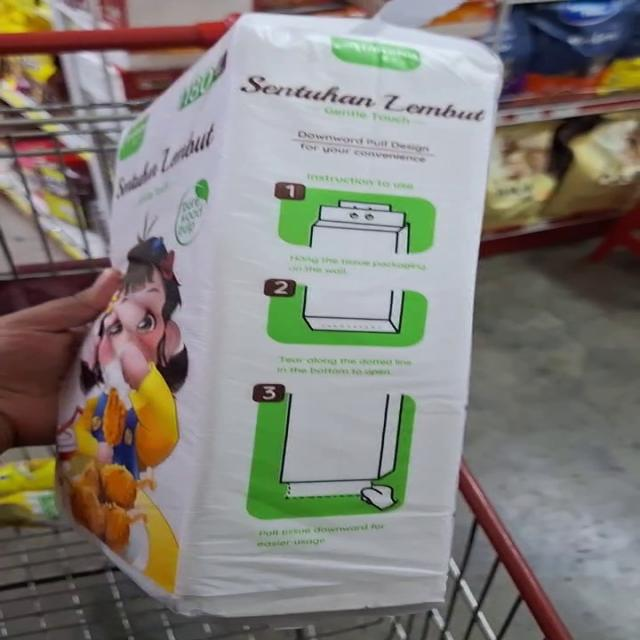Tisu: (30, 254, 489, 624), (46, 39, 544, 283)
